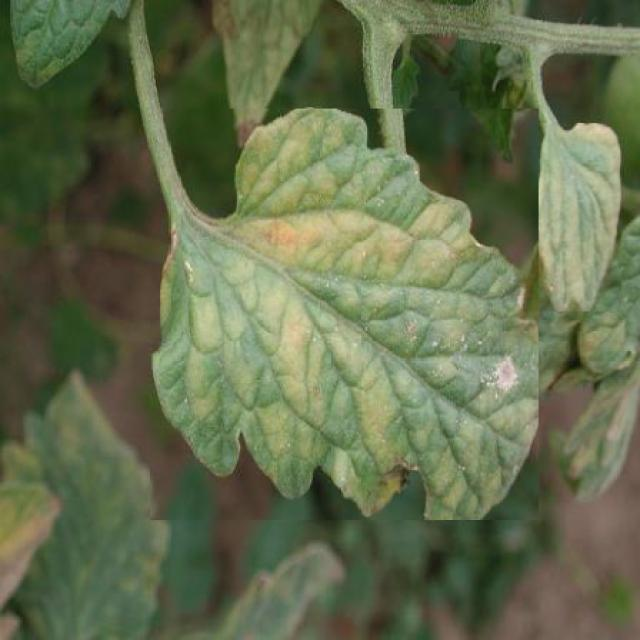Leaf Mold: (150, 108, 539, 520), (537, 122, 622, 312)
